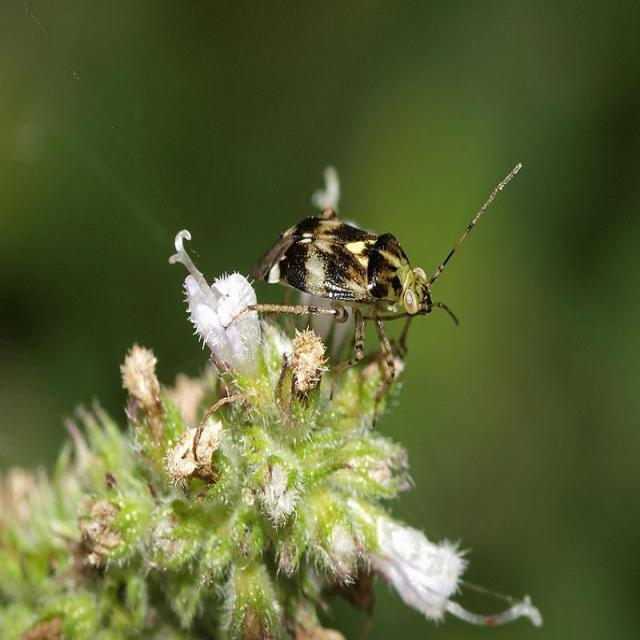Miridae-Adult-: (214, 143, 529, 345)
